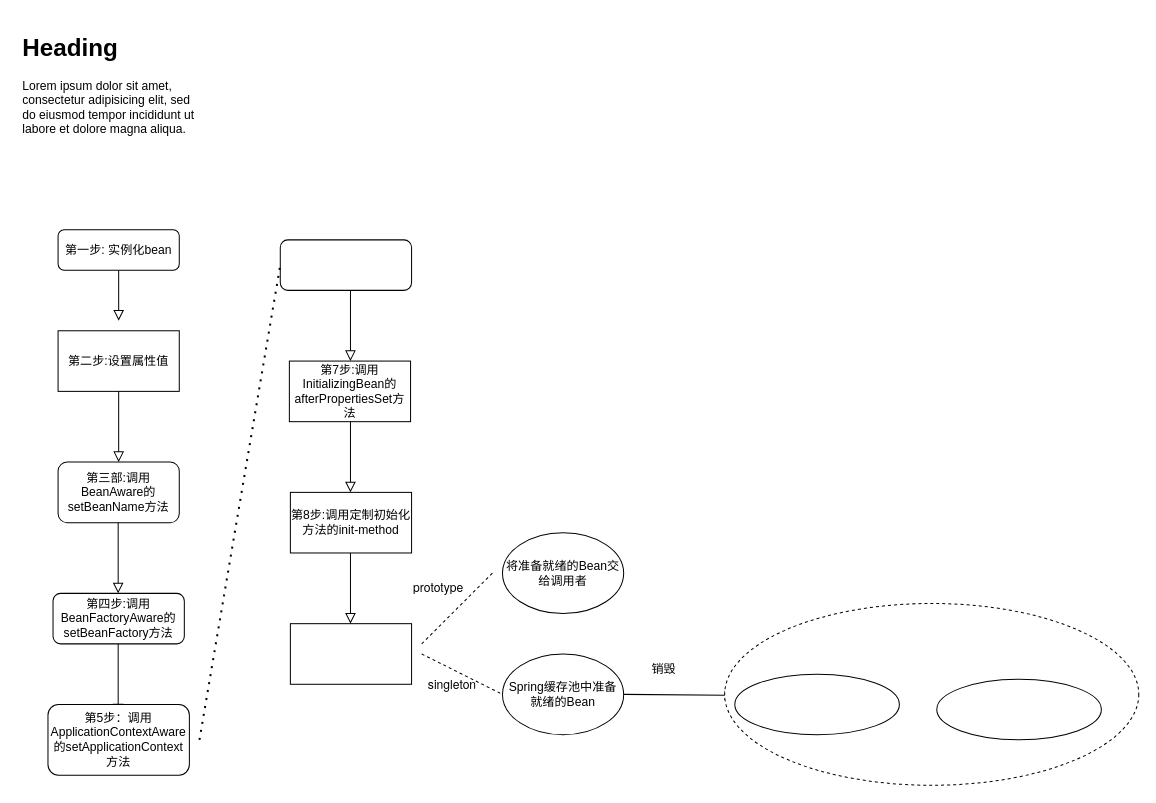
The diagram is 1156 pixels wide and 803 high, and some of its shapes have lost their labels. Here are the shapes that lost their labels. From the top down, the box of each, then its label:
(279, 239, 412, 290): 第6步：调用BeanPostProcessor的预初始化方法
(289, 623, 412, 684): 第9步：调用BeanPostProcessor的后初始化方法
(734, 673, 899, 735): 调⽤ DisposableBean 的 destory ⽅法
(936, 678, 1101, 740): 调⽤ destory-method 属性配置的销毁⽅法
